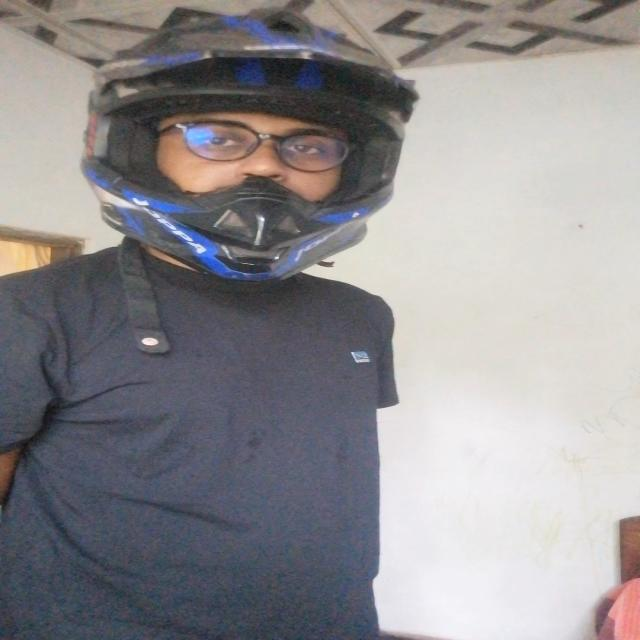Helmet_Wearer: (53, 9, 423, 290)
